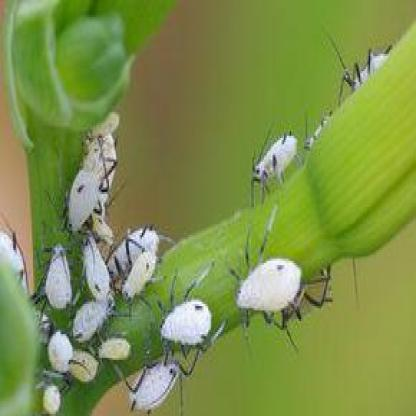aphid: (231, 235, 316, 329), (162, 274, 225, 354), (66, 140, 108, 233), (123, 358, 189, 416), (106, 228, 165, 284), (333, 38, 396, 90), (249, 131, 304, 190), (0, 202, 35, 294), (76, 227, 115, 299), (97, 108, 125, 200), (119, 251, 162, 307), (70, 293, 112, 346), (42, 244, 77, 307), (62, 340, 98, 388), (95, 328, 132, 371), (48, 325, 76, 381), (38, 378, 70, 416)
